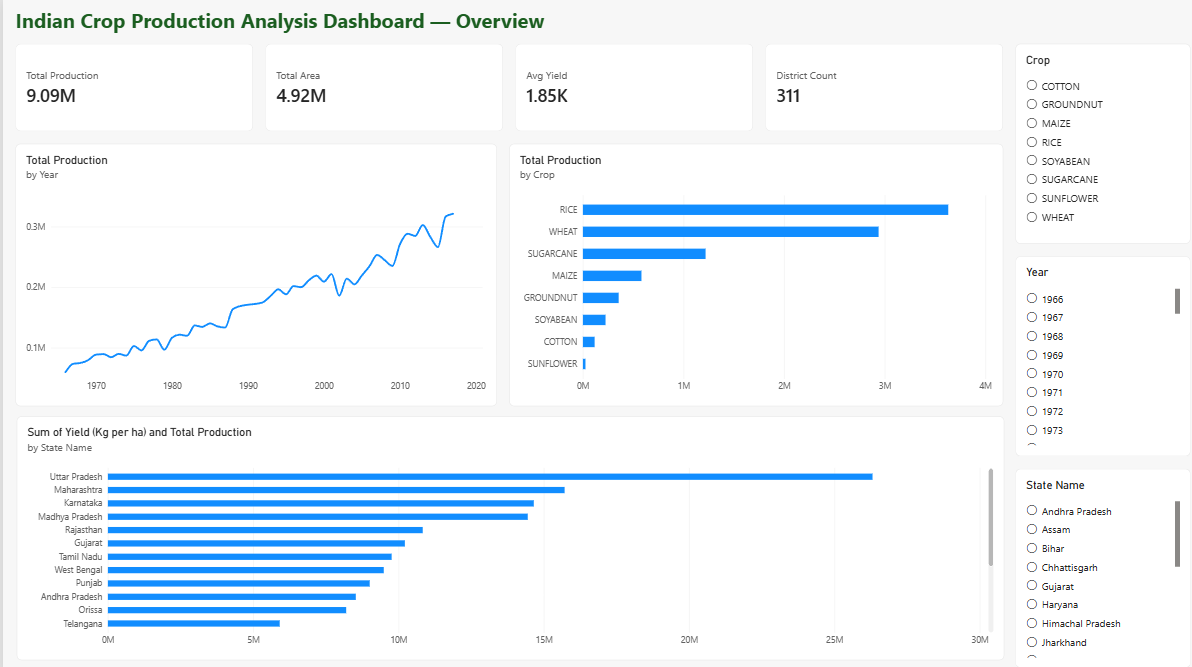

Layout of this report page (visuals, bound fields, positions):
{"tool":"powerbi","page":{"name":"Overview","canvas":[1920,1080],"ordinal":0},"visuals":[{"type":"textbox","box":[20,10,1880,50],"z":0},{"type":"cardVisual","fields":{"Data":["Fact_CropProduction.Total Production"]},"box":[20,70,380,140],"z":1000},{"type":"cardVisual","fields":{"Data":["Fact_CropProduction.Total Area"]},"box":[420,70,380,140],"z":2000},{"type":"cardVisual","fields":{"Data":["Fact_CropProduction.Avg Yield"]},"box":[820,70,380,140],"z":3000},{"type":"cardVisual","fields":{"Data":["Fact_CropProduction.District Count"]},"box":[1220,70,380,140],"z":4000},{"type":"lineChart","fields":{"Category":["Dim_Year.Year"],"Y":["Fact_CropProduction.Total Production"]},"box":[20,230,770,420],"z":5000},{"type":"clusteredBarChart","fields":{"Category":["Dim_Crop.Crop"],"Y":["Fact_CropProduction.Total Production"]},"box":[810,230,790,420],"z":6000},{"type":"clusteredBarChart","fields":{"Category":["Fact_CropProduction.State Name"],"Y":["Sum(Fact_CropProduction.Yield (Kg per ha))"]},"box":[21.7,666,1580,390],"z":7000},{"type":"listSlicer","fields":{"Values":["Dim_Crop.Crop"]},"box":[1620,70,280,320],"z":8000},{"type":"listSlicer","fields":{"Values":["Dim_Year.Year"]},"box":[1620,410,280,320],"z":9000},{"type":"listSlicer","fields":{"Values":["Fact_CropProduction.State Name"]},"box":[1620,750,280,320],"z":10000}]}

Visuals, with their boxes in screenshot pixels (x1, y1, x2, y2), scaled from the page's 1920x1080 canvas onto the 1192x667 screenshot:
textbox: locate(12, 6, 1180, 37)
cardVisual - Fact_CropProduction.Total Production: locate(12, 43, 248, 130)
cardVisual - Fact_CropProduction.Total Area: locate(261, 43, 497, 130)
cardVisual - Fact_CropProduction.Avg Yield: locate(509, 43, 745, 130)
cardVisual - Fact_CropProduction.District Count: locate(757, 43, 993, 130)
lineChart - Dim_Year.Year x Fact_CropProduction.Total Production: locate(12, 142, 490, 401)
clusteredBarChart - Dim_Crop.Crop x Fact_CropProduction.Total Production: locate(503, 142, 993, 401)
clusteredBarChart - Fact_CropProduction.State Name x Sum(Fact_CropProduction.Yield (Kg per ha)): locate(13, 411, 994, 652)
listSlicer - Dim_Crop.Crop: locate(1006, 43, 1180, 241)
listSlicer - Dim_Year.Year: locate(1006, 253, 1180, 451)
listSlicer - Fact_CropProduction.State Name: locate(1006, 463, 1180, 661)
